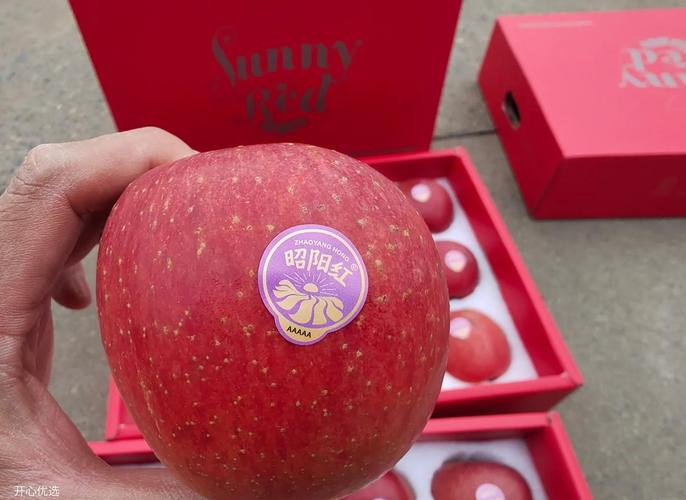ripe: (91, 147, 472, 500)
